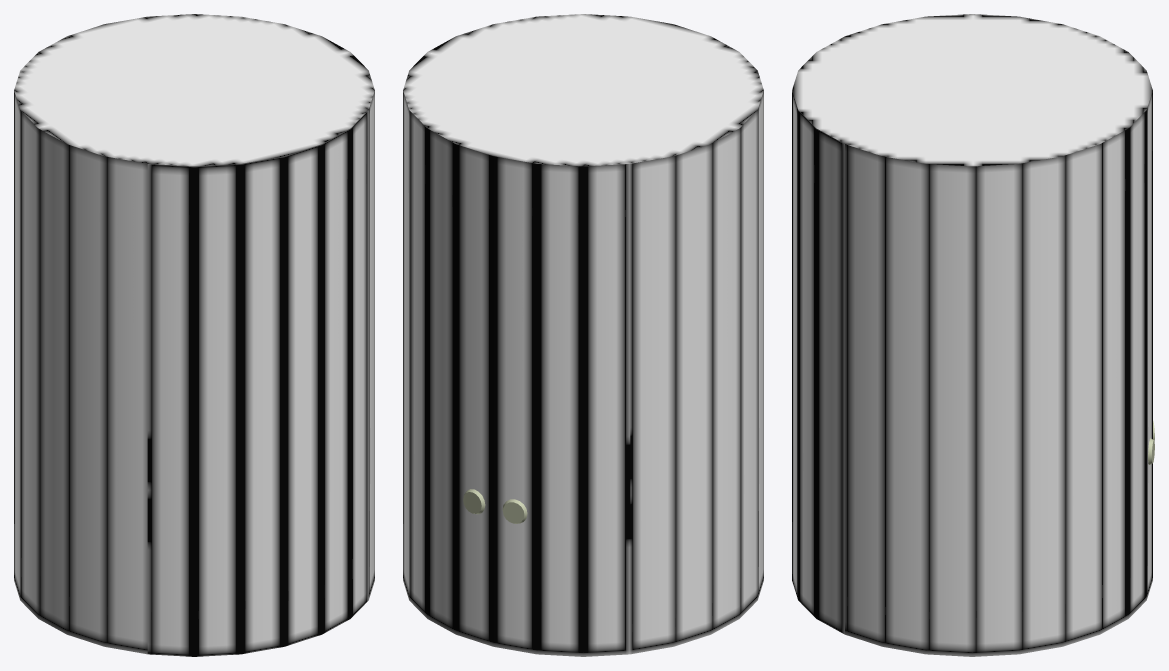
File: rotanev_crew_s2_1_2_interior.obj
The picture shows the model from 3 angles, left to right: view 1: azimuth 30°, elevation 25°; view 2: azimuth 150°, elevation 25°; view 3: azimuth 270°, elevation 25°; orthographic projection.
Visible parts, largest first — view 1: rotanev_crew_s2_1_2_interior; view 2: rotanev_crew_s2_1_2_interior, rotanev_crew_s2_1_2_interior_mask; view 3: rotanev_crew_s2_1_2_interior.
Part boxes in pixels (x1=…): rotanev_crew_s2_1_2_interior: x1=14, y1=14, x2=374, y2=656; rotanev_crew_s2_1_2_interior: x1=403, y1=14, x2=763, y2=656; rotanev_crew_s2_1_2_interior_mask: x1=463, y1=489, x2=527, y2=523; rotanev_crew_s2_1_2_interior: x1=792, y1=14, x2=1152, y2=656.
Bounding box in the file's own units: 2.5 × 3.75 × 2.51.
2 materials, 1 textured.
